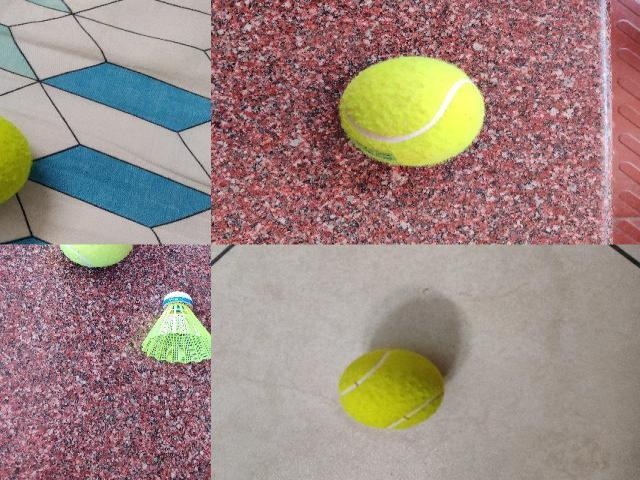tennis-ball: (338, 57, 484, 166), (338, 348, 444, 430), (0, 104, 33, 214), (58, 245, 134, 267)
